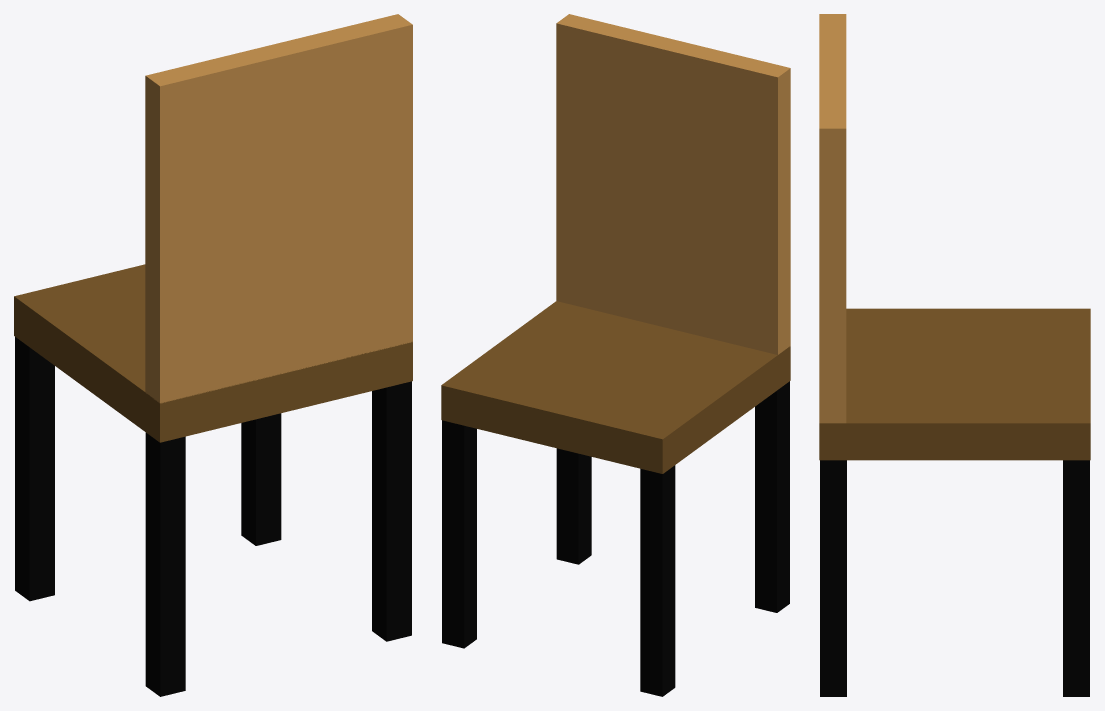
The model's file is chair.fbx.
The picture shows the model from 3 angles, left to right: view 1: azimuth 30°, elevation 25°; view 2: azimuth 150°, elevation 25°; view 3: azimuth 270°, elevation 25°; orthographic projection. The views are drawn at different scales.
Visible parts, largest first — view 1: ChairBackSeat, ChairSeat, ChairLeg4, ChairLeg3, ChairLeg2, ChairLeg1; view 2: ChairBackSeat, ChairSeat, ChairLeg2, ChairLeg1, ChairLeg4, ChairLeg3; view 3: ChairSeat, ChairBackSeat, ChairLeg1, ChairLeg3.
Boxes of the visible parts, x1,y1,x2,y2 form: ChairBackSeat: (145, 14, 412, 403); ChairSeat: (14, 264, 412, 442); ChairLeg4: (145, 432, 185, 696); ChairLeg3: (372, 381, 411, 641); ChairLeg2: (15, 337, 54, 601); ChairLeg1: (241, 413, 281, 545); ChairBackSeat: (556, 14, 790, 354); ChairSeat: (441, 301, 790, 473); ChairLeg2: (640, 465, 675, 696); ChairLeg1: (442, 420, 476, 648); ChairLeg4: (755, 381, 789, 612); ChairLeg3: (556, 448, 591, 564); ChairSeat: (819, 308, 1090, 460); ChairBackSeat: (819, 14, 846, 423); ChairLeg1: (1063, 460, 1089, 696); ChairLeg3: (820, 460, 846, 696).
Size of the model in its own units: 10 by 23.1 by 10.
